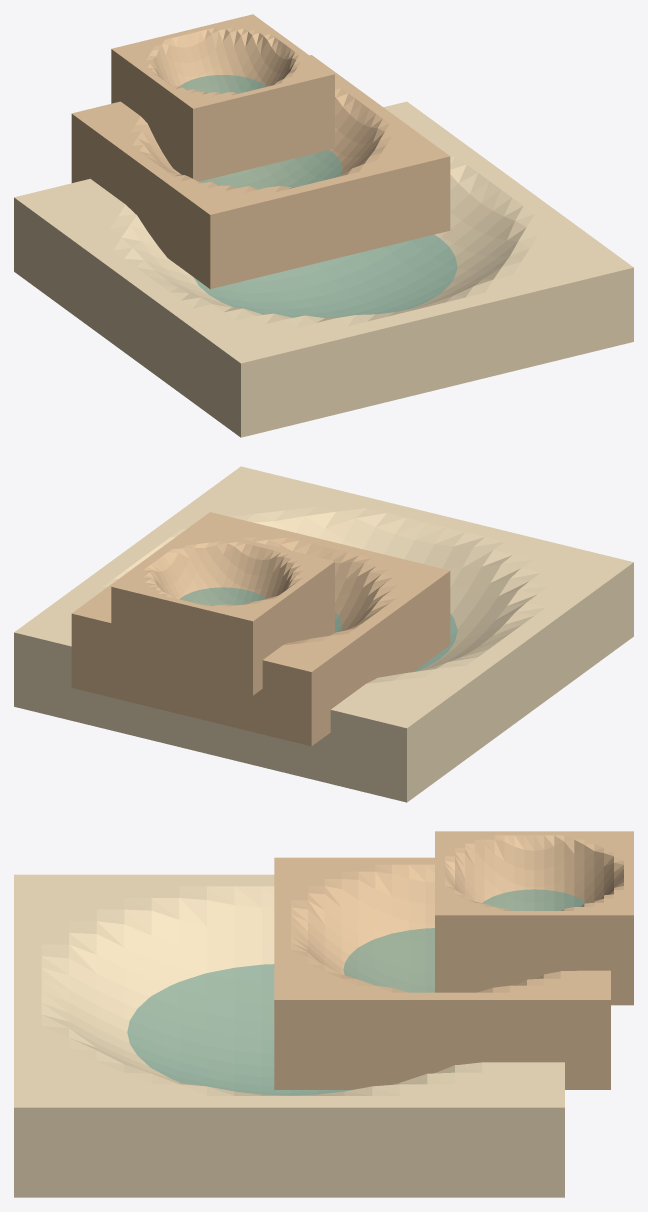
The model's file is desert-canyons-and-oases-travertine-terrace-af66662d__20973.glb.
3 views of the same model, one above another, from view 1: azimuth 30°, elevation 25°; view 2: azimuth 150°, elevation 25°; view 3: azimuth 270°, elevation 25° (orthographic). The views are drawn at different scales.
Visible parts, largest first — view 1: travertine-terrace; view 2: travertine-terrace; view 3: travertine-terrace.
Boxes of the visible parts, x1,y1,x2,y2 form: travertine-terrace: (14,14,633,437); travertine-terrace: (14,466,633,802); travertine-terrace: (14,831,633,1197).
Size of the model in its own units: 3.6 by 1.5 by 4.05.
